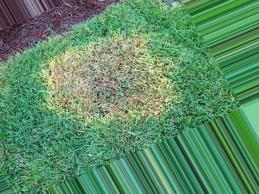patch: (63, 57, 160, 124)
